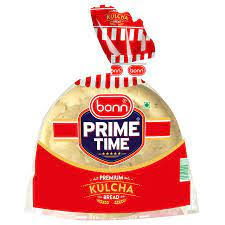bread: (41, 30, 201, 218)
